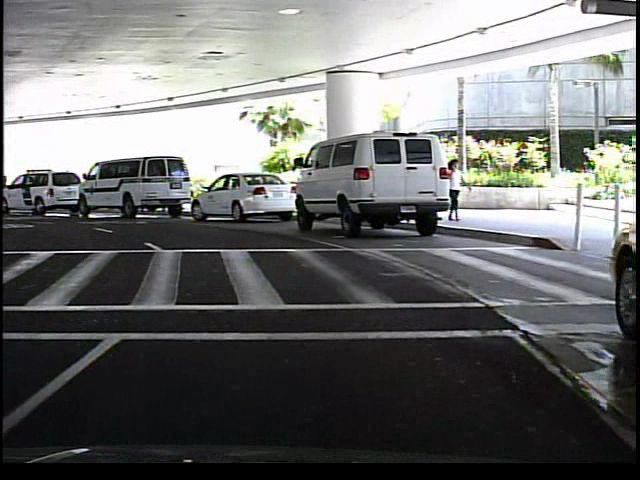person: (446, 153, 469, 226)
